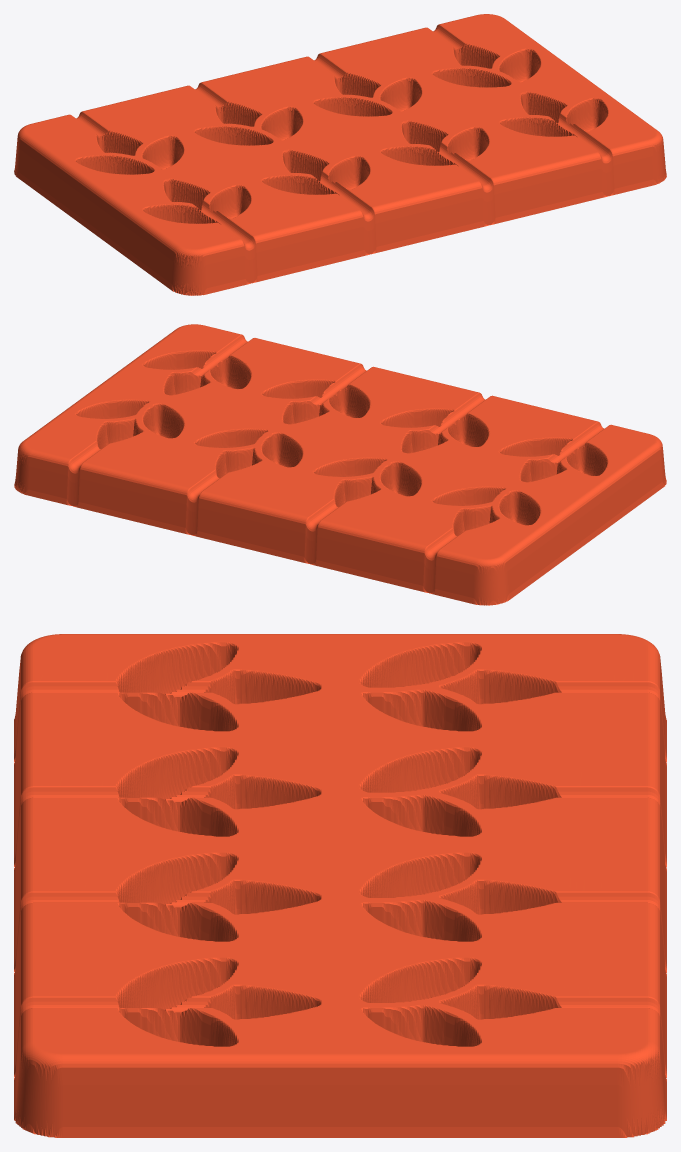
The model's file is mold.glb.
3 renders of one model, top to bottom at view 1: azimuth 30°, elevation 25°; view 2: azimuth 150°, elevation 25°; view 3: azimuth 270°, elevation 25°, orthographic. The views are drawn at different scales.
Visible parts, largest first — view 1: geometry_0; view 2: geometry_0; view 3: geometry_0.
Part boxes in pixels (left/top/right/bottom): geometry_0: left=14, top=14, right=666, bottom=295; geometry_0: left=14, top=324, right=666, bottom=605; geometry_0: left=14, top=634, right=666, bottom=1137.
Size of the model in its own units: 0.1907 by 0.0155 by 0.121.
